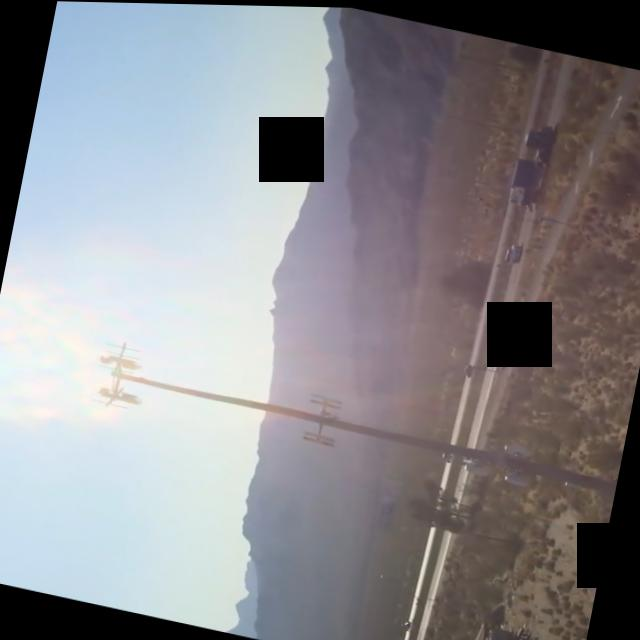Pole: (80, 332, 624, 520)
